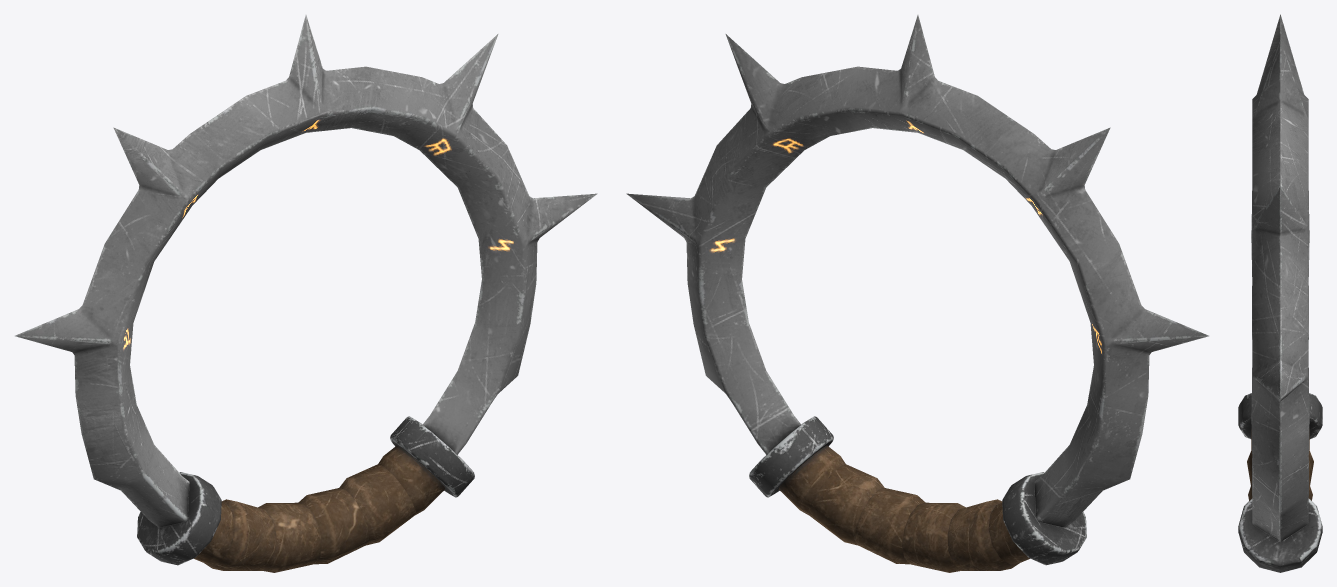
The model's file is ring.glb.
3 views of the same model, side by side, from view 1: azimuth 30°, elevation 25°; view 2: azimuth 150°, elevation 25°; view 3: azimuth 270°, elevation 25° (orthographic). The views are drawn at different scales.
Visible parts, largest first — view 1: Blade_low, Handle_low, Rings_low; view 2: Blade_low, Handle_low, Rings_low; view 3: Blade_low, Rings_low, Handle_low.
Boxes of the visible parts, left/top/right/bottom form: Blade_low: left=15, top=15, right=597, bottom=527; Handle_low: left=194, top=445, right=445, bottom=572; Rings_low: left=137, top=416, right=474, bottom=565; Blade_low: left=626, top=15, right=1208, bottom=527; Handle_low: left=778, top=445, right=1029, bottom=572; Rings_low: left=749, top=416, right=1086, bottom=565; Blade_low: left=1251, top=14, right=1309, bottom=541; Rings_low: left=1238, top=393, right=1322, bottom=572; Handle_low: left=1247, top=428, right=1313, bottom=500.
Size of the model in its own units: 0.6712 by 0.6052 by 0.0918.
Materials: 1 (1 with a texture image).
